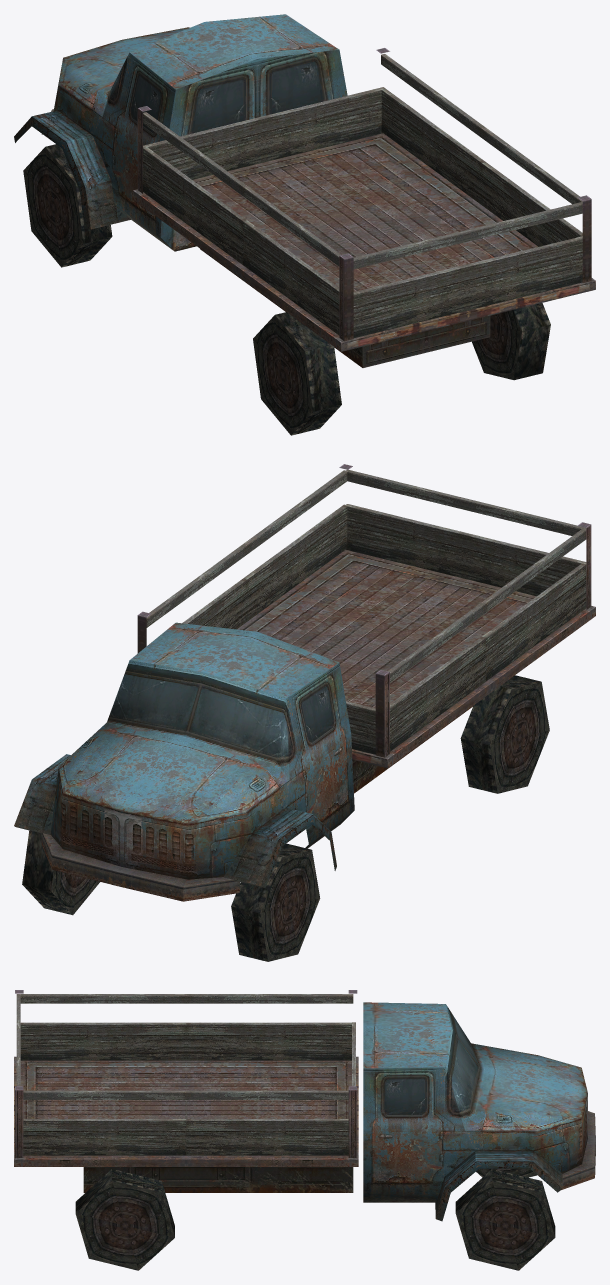
Rendered from Cover_Lorry05_lod2.glb.
3 renders of one model, top to bottom at view 1: azimuth 30°, elevation 25°; view 2: azimuth 150°, elevation 25°; view 3: azimuth 270°, elevation 25°, orthographic. The views are drawn at different scales.
Parts seen in each view (by area): view 1: common_lorry_05_lod2; view 2: common_lorry_05_lod2; view 3: common_lorry_05_lod2.
Part boxes in pixels (left/top/right/bottom): common_lorry_05_lod2: left=14, top=14, right=595, bottom=435; common_lorry_05_lod2: left=14, top=464, right=595, bottom=961; common_lorry_05_lod2: left=14, top=990, right=595, bottom=1270.
Bounding box in the file's own units: 4.67 × 4.15 × 11.17.
Materials: 1 (1 with a texture image).
